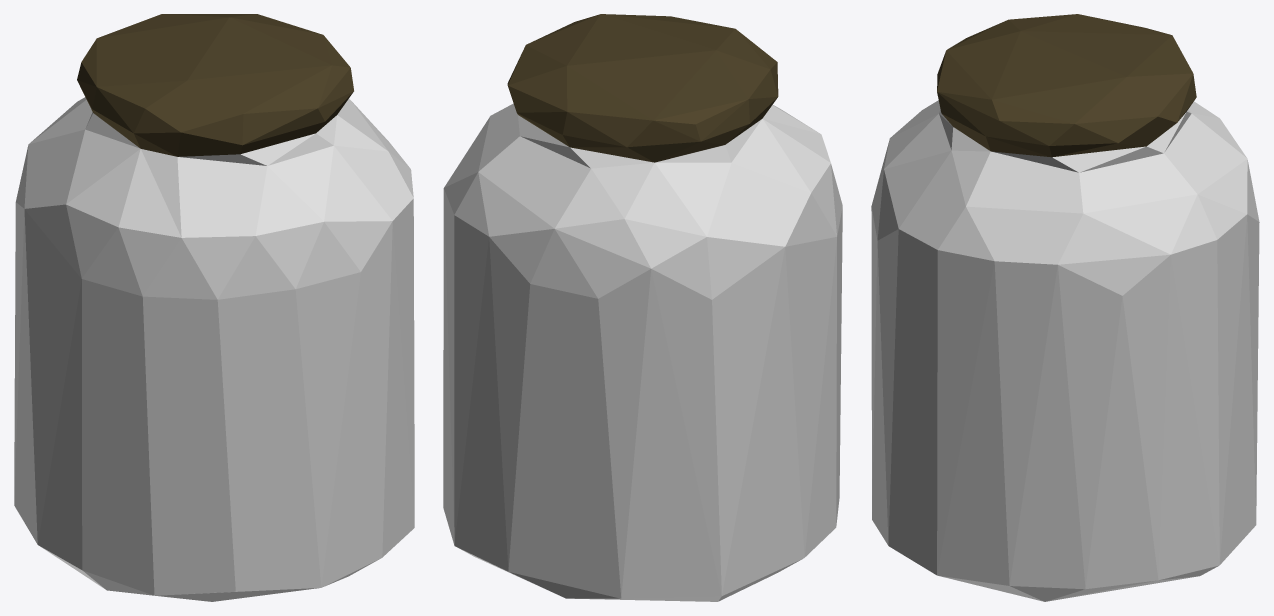
The model's file is big jar pari tear.glb.
3 renders of one model, left to right at view 1: azimuth 30°, elevation 25°; view 2: azimuth 150°, elevation 25°; view 3: azimuth 270°, elevation 25°, orthographic.
Visible parts, largest first — view 1: Cube; view 2: Cube; view 3: Cube.
Boxes of the visible parts, box(x1,y1,x2,y2) form: Cube: box(14, 14, 414, 601); Cube: box(443, 14, 842, 601); Cube: box(871, 14, 1259, 601).
Size of the model in its own units: 0.2611 by 0.3578 by 0.2616.
